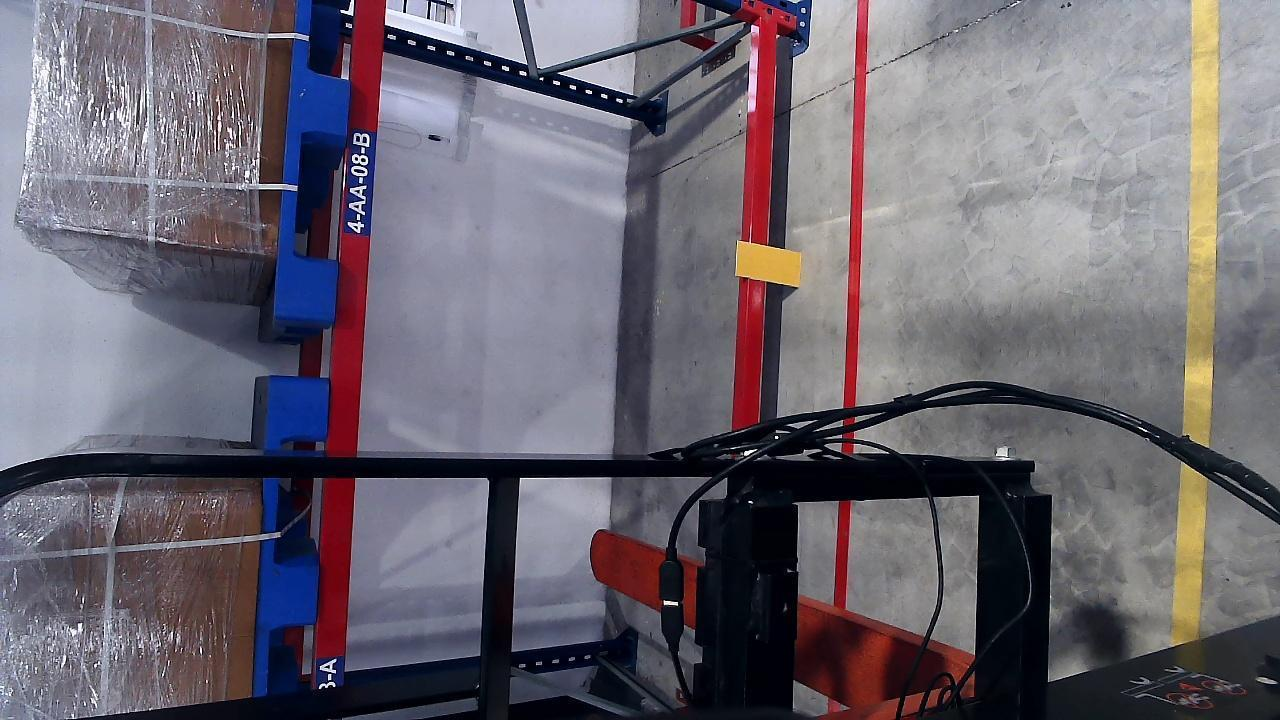red_line: (842, 3, 868, 408)
yellow_line: (1181, 1, 1221, 448), (1171, 464, 1210, 646)
